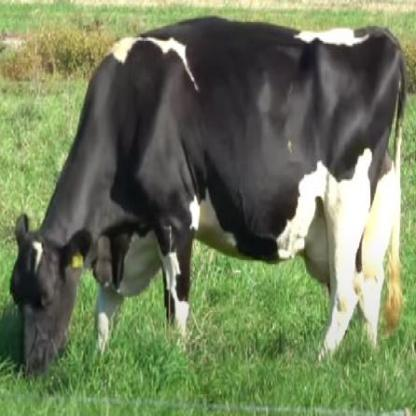cow: (10, 17, 407, 374)
